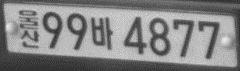4: (123, 15, 147, 54)
7: (172, 18, 195, 57), (197, 20, 220, 59)
8: (148, 16, 171, 56)
9: (41, 11, 64, 49), (66, 12, 88, 50)
바: (90, 16, 114, 50)
울산_V: (17, 9, 39, 48)
